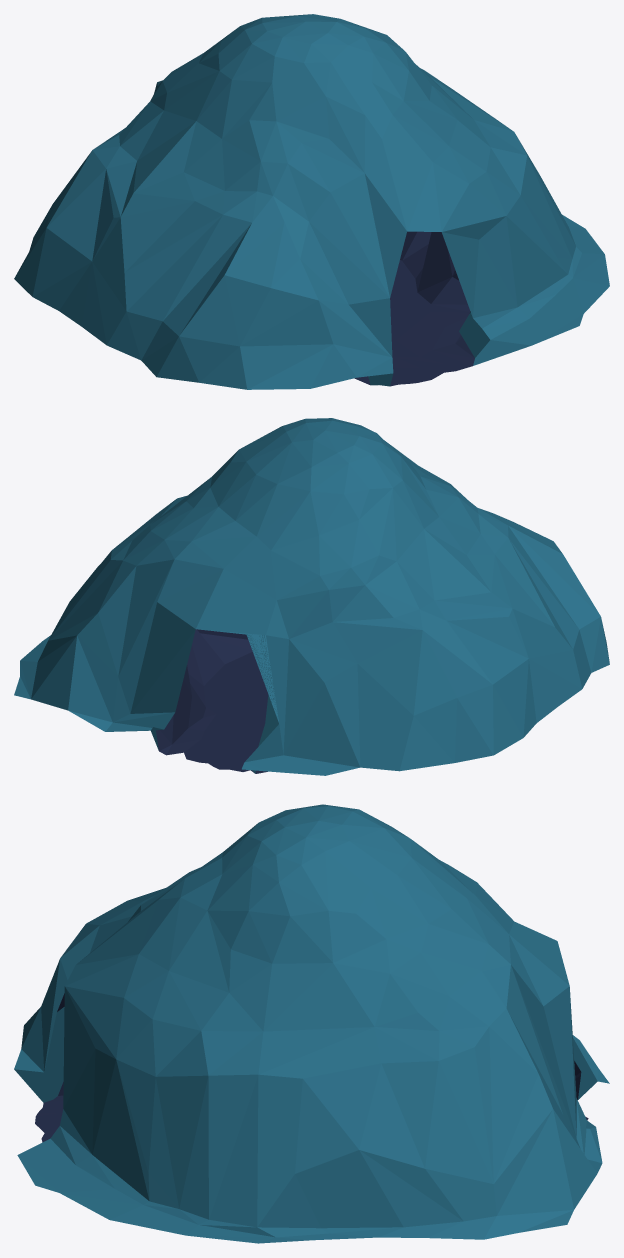
Rendered from Cave.fbx.
The picture shows the model from 3 angles, top to bottom: view 1: azimuth 30°, elevation 25°; view 2: azimuth 150°, elevation 25°; view 3: azimuth 270°, elevation 25°; orthographic projection. The views are drawn at different scales.
Parts seen in each view (by area): view 1: Plane.008; view 2: Plane.008; view 3: Plane.008.
Part boxes in pixels (<box>): Plane.008: <box>14,14,609,389</box>; Plane.008: <box>14,418,609,775</box>; Plane.008: <box>14,804,609,1243</box>.
Size of the model in its own units: 10652 by 5517 by 9817.
